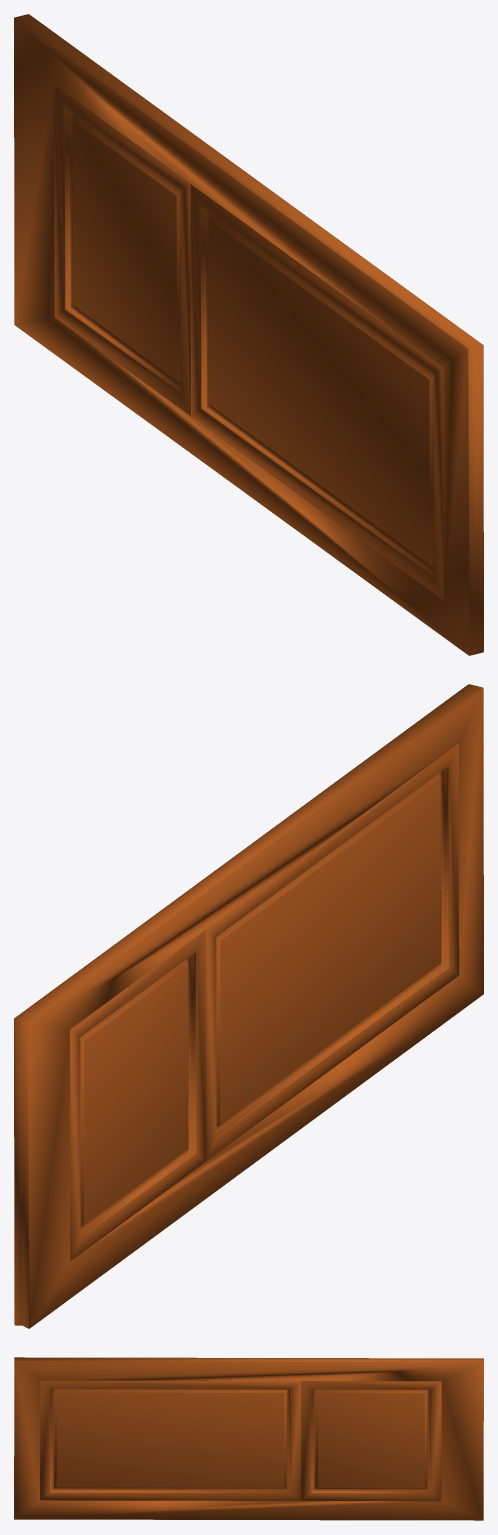
Rendered from door2.obj.
3 views of the same model, one above another, from view 1: azimuth 30°, elevation 25°; view 2: azimuth 150°, elevation 25°; view 3: azimuth 270°, elevation 25° (orthographic). The views are drawn at different scales.
Parts seen in each view (by area): view 1: Door_Sheet001; view 2: Door_Sheet001; view 3: Door_Sheet001.
Part boxes in pixels (x1,y1,x2,y2): Door_Sheet001: [14, 14, 483, 655]; Door_Sheet001: [14, 684, 483, 1328]; Door_Sheet001: [14, 1357, 483, 1520].
Size of the model in its own units: 0.04 by 0.75 by 2.
